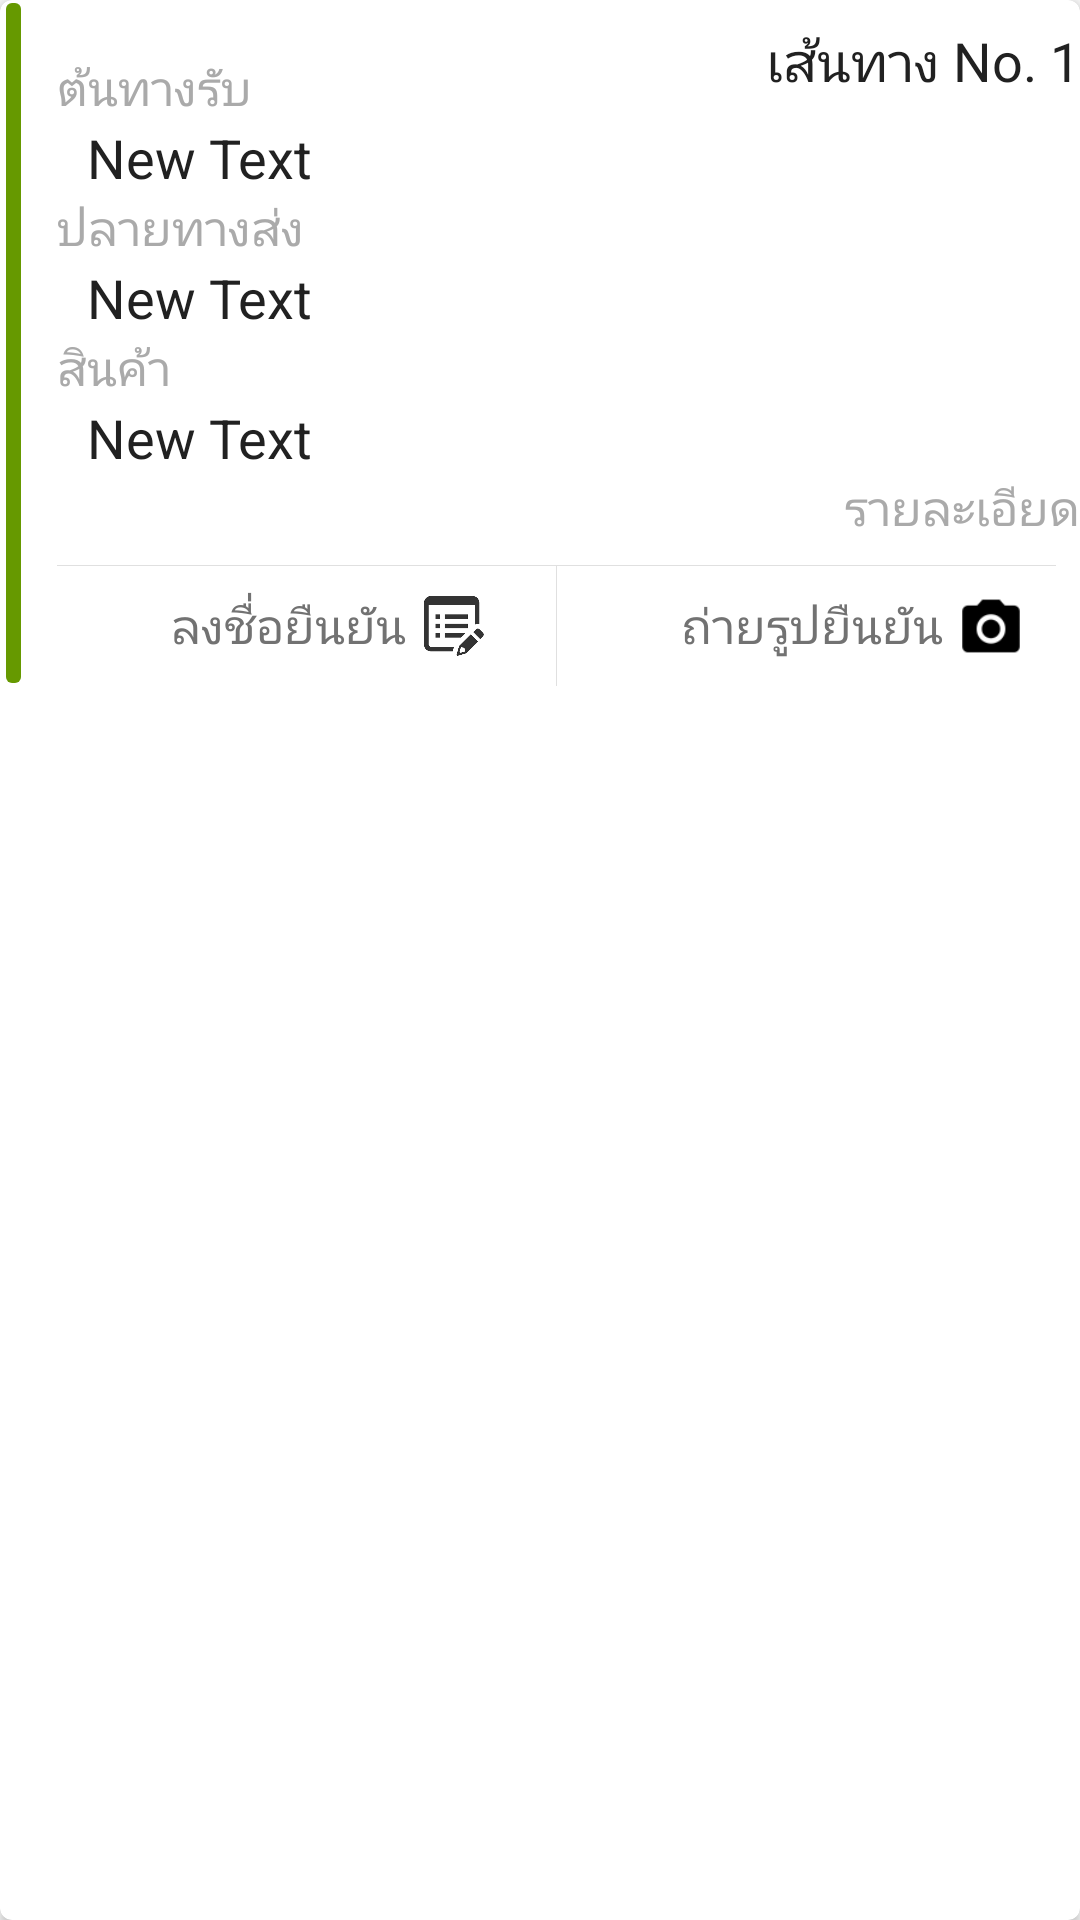

Where to tap for icons on this 1080 × 1920 app screen, as [x,y]:
camera: [991,626]
signicn: [454,626]
